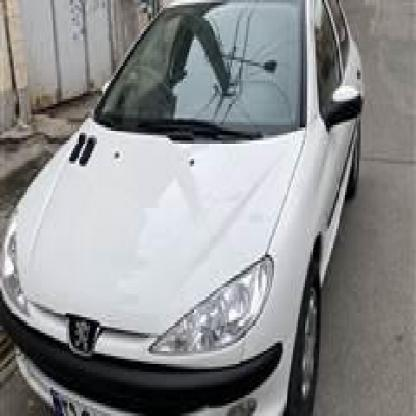Car: (12, 0, 361, 416)
